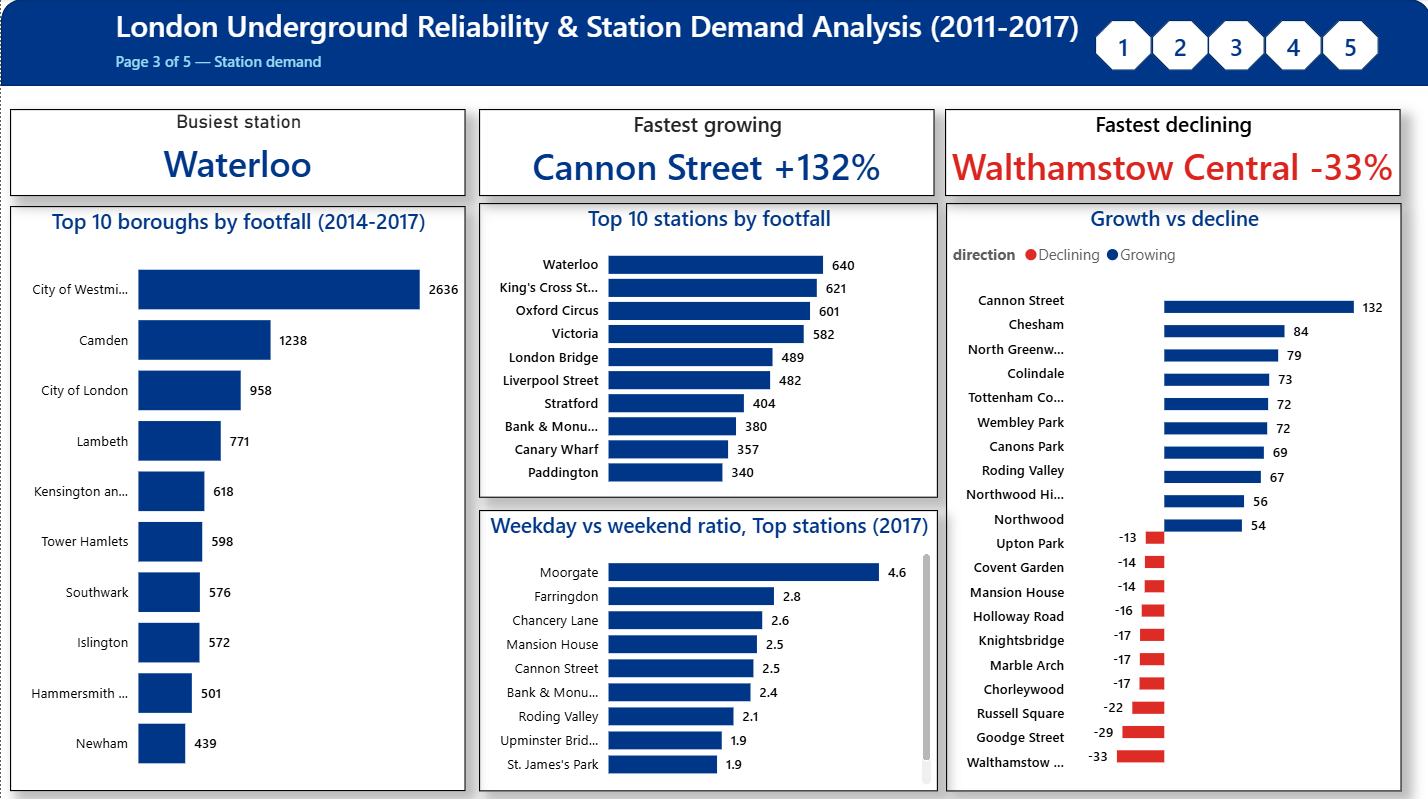

The dashboard page shown, as its layout file describes it:
{"tool":"powerbi","page":{"name":"Demand","canvas":[1280,720],"ordinal":2},"visuals":[{"type":"shape","box":[979.8,19.2,50.8,45.3],"z":0,"group":"g3"},{"type":"group","id":"g1","title":"Group 1","box":[106.5,37.6,1173.5,78.7],"z":0},{"type":"shape","box":[1030.6,19.2,50.8,45.3],"z":1000,"group":"g3"},{"type":"clusteredBarChart","title":"Top 10 stations by footfall","fields":{"Category":["clean_station_footfall.station"],"Y":["Sum(clean_station_footfall.annual_entry_exit_million)"]},"box":[428,182.4,410.7,263.9],"z":1000},{"type":"shape","box":[1081.4,19.2,50.8,45.3],"z":2000,"group":"g3"},{"type":"clusteredBarChart","title":"Growth vs decline","fields":{"Category":["station_growth_decline.station"],"Y":["Sum(station_growth_decline.pct_growth)"],"Series":["station_growth_decline.direction"]},"box":[845.9,182.4,407.6,526.9],"z":2000},{"type":"shape","box":[1132.1,19.2,50.8,45.3],"z":3000,"group":"g3"},{"type":"clusteredBarChart","title":"Weekday vs weekend ratio, Top stations (2017)","fields":{"Category":["weekday vs  weekend ratio.station"],"Y":["Sum(weekday vs  weekend ratio.weekday_weekend_ratio)"]},"box":[428,457.6,410.7,251.7],"z":3000},{"type":"shape","box":[1182.9,19.2,50.8,45.3],"z":4000,"group":"g3"},{"type":"clusteredBarChart","title":"Top 10 boroughs by footfall (2014-2017)","fields":{"Category":["Borough totals.borough"],"Y":["Sum(Borough totals.total_footfall)"]},"box":[8.2,185.5,407.6,523.8],"z":4000},{"type":"card","title":"Busiest station","fields":{"Values":["DateTable.Busiest Station"]},"box":[8,98.4,407.6,77.9],"z":5000},{"type":"shape","box":[0,0,1280.6,77.9],"z":6000,"group":"g2"},{"type":"card","title":"Fastest growing","fields":{"Values":["growing_stations.Fastest Growing Label"]},"box":[428,98.4,407.6,77.9],"z":6000},{"type":"textbox","box":[97.4,0,882.4,53.5],"z":7000,"group":"g2"},{"type":"textbox","box":[106.5,37.6,1173.5,49.4],"z":7000,"group":"g1"},{"type":"card","title":"Fastest declining","fields":{"Values":["declining_stations.Fastest Declining Label"]},"box":[845.6,98.4,407.6,77.9],"z":7000},{"type":"group","id":"g2","title":"Group 1","box":[0,0,1280.6,77.9],"z":8000},{"type":"textbox","box":[97.6,42.2,425.4,29.6],"z":8000,"group":"g2"},{"type":"textbox","box":[106.5,77,465.5,39.4],"z":8000,"group":"g1"},{"type":"group","id":"g3","title":"Group 3","box":[979.8,19.2,253.9,45.3],"z":9000}]}

Visuals, with their boxes in screenshot pixels (x1, y1, x2, y2), scaled from the page's 1280x720 canvas onto the 1428x799 screenshot:
shape: 1093:21:1150:72
"Group 1" group: 119:42:1427:129
shape: 1150:21:1206:72
"Top 10 stations by footfall" clusteredBarChart: 477:202:936:495
shape: 1206:21:1263:72
"Growth vs decline" clusteredBarChart: 944:202:1398:787
shape: 1263:21:1320:72
"Weekday vs weekend ratio, Top stations (2017)" clusteredBarChart: 477:508:936:787
shape: 1320:21:1376:72
"Top 10 boroughs by footfall (2014-2017)" clusteredBarChart: 9:206:464:787
"Busiest station" card: 9:109:464:196
shape: 0:0:1427:86
"Fastest growing" card: 477:109:932:196
textbox: 109:0:1093:59
textbox: 119:42:1427:97
"Fastest declining" card: 943:109:1398:196
"Group 1" group: 0:0:1427:86
textbox: 109:47:583:80
textbox: 119:85:638:129
"Group 3" group: 1093:21:1376:72
